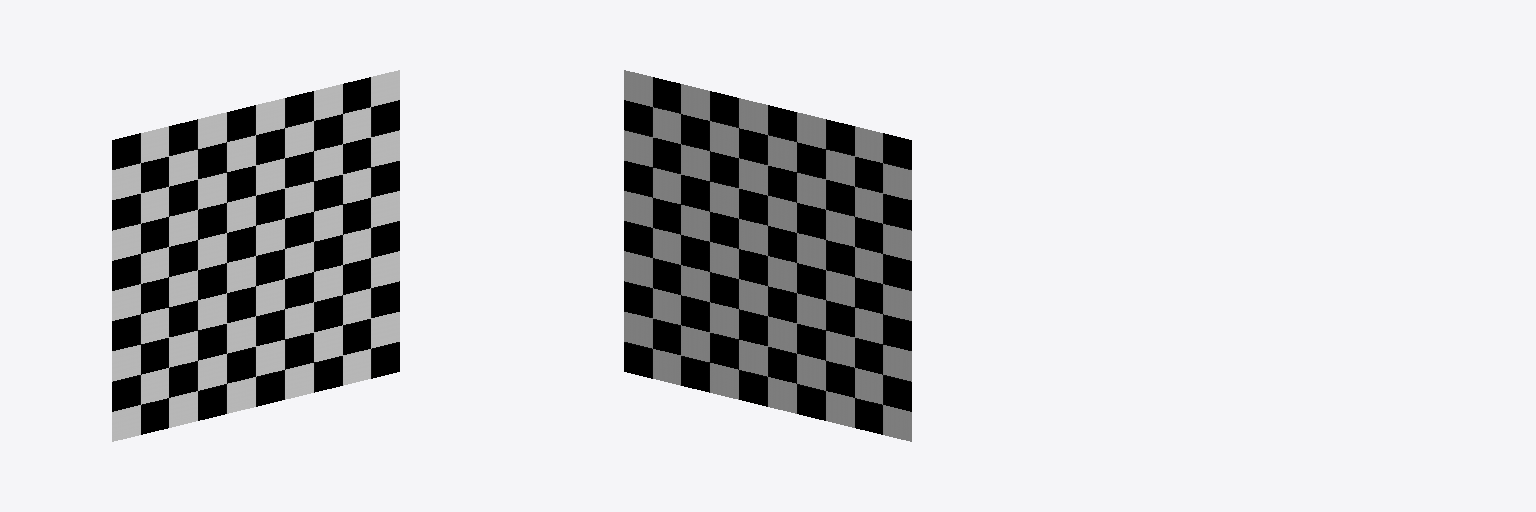
3 views of the same model, side by side, from view 1: azimuth 30°, elevation 25°; view 2: azimuth 150°, elevation 25°; view 3: azimuth 270°, elevation 25° (orthographic).
Visible parts, largest first — view 1: Cube; view 2: Cube; view 3: none.
Part boxes in pixels (bbox=[...]): Cube: bbox=[112, 70, 399, 441]; Cube: bbox=[624, 70, 911, 441].
Bounding box in the file's own units: 4 × 4 × 0.0002.
Materials: 1 (1 with a texture image).